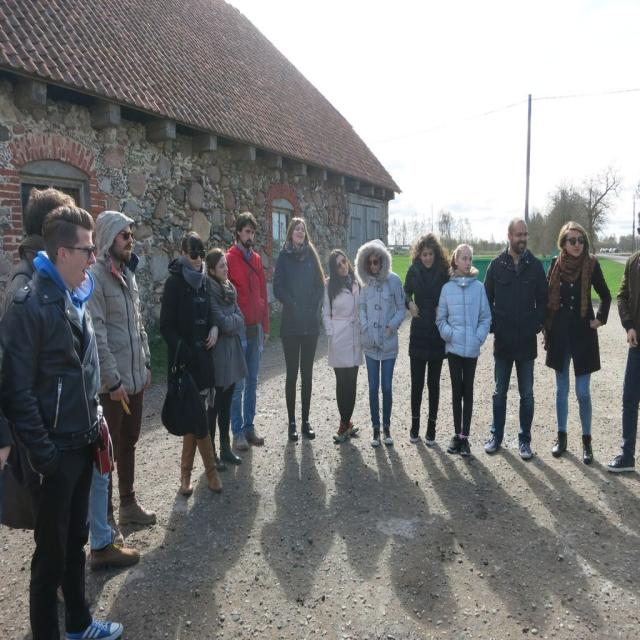body: (54, 442, 639, 639), (0, 198, 126, 640), (0, 186, 141, 574), (84, 208, 157, 547), (156, 229, 226, 497), (543, 220, 613, 465), (482, 216, 550, 460), (433, 241, 493, 459), (271, 216, 328, 443), (352, 237, 407, 448), (224, 211, 271, 452), (402, 231, 452, 446), (318, 246, 371, 444), (204, 247, 249, 473), (602, 210, 640, 476)
